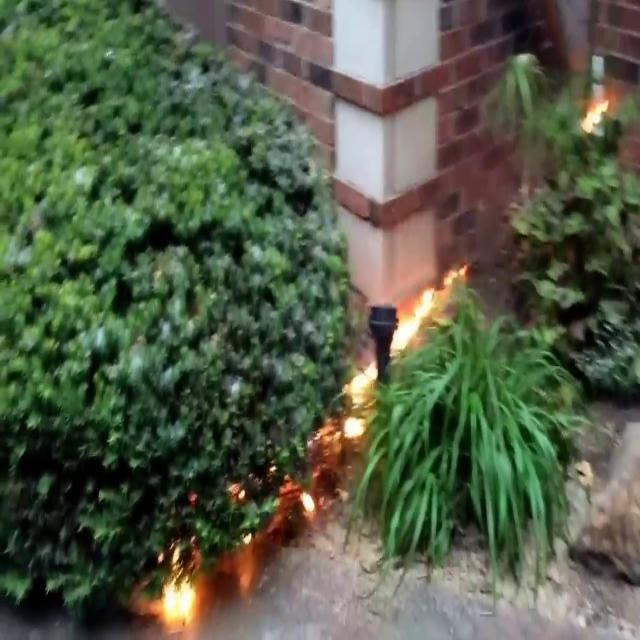Fire: (387, 265, 469, 358), (332, 352, 380, 446), (152, 560, 205, 636), (152, 560, 204, 636)
